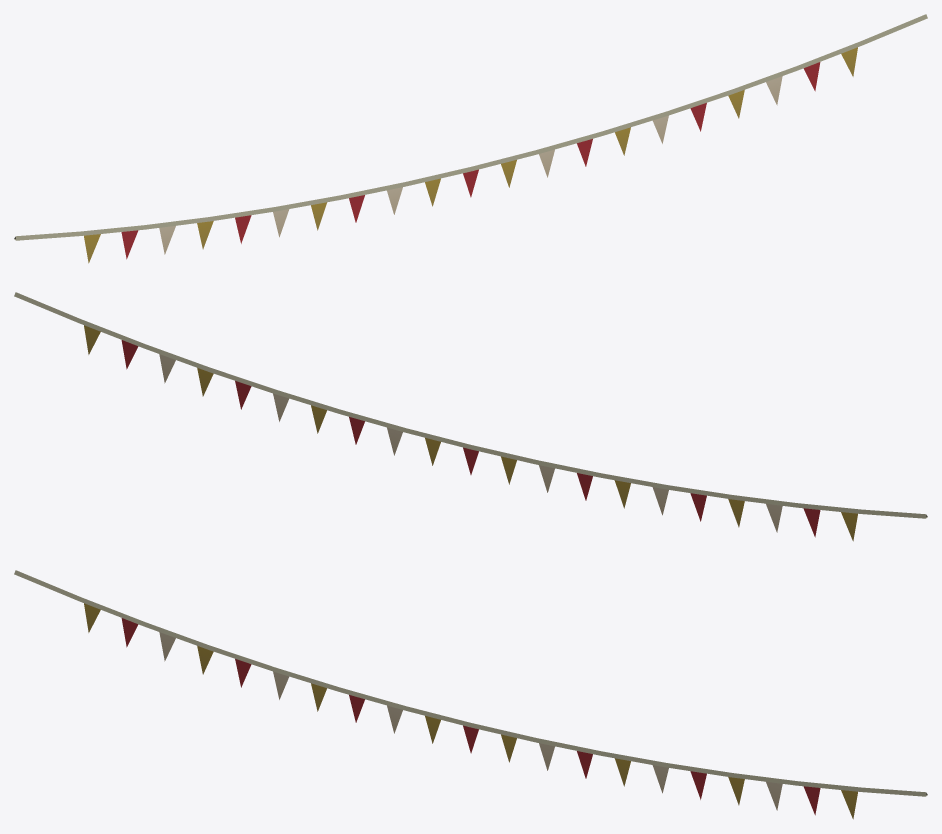
File: Rope_2C.fbx
3 views of the same model, one above another, from view 1: azimuth 30°, elevation 25°; view 2: azimuth 150°, elevation 25°; view 3: azimuth 330°, elevation 25° (orthographic).
Visible parts, largest first — view 1: polySurface9887; view 2: polySurface9887; view 3: polySurface9887.
Part boxes in pixels (<box>): polySurface9887: <box>14,14,927,263</box>; polySurface9887: <box>14,292,927,541</box>; polySurface9887: <box>14,570,927,819</box>.
Size of the model in its own units: 2389 by 182 by 10.39.
